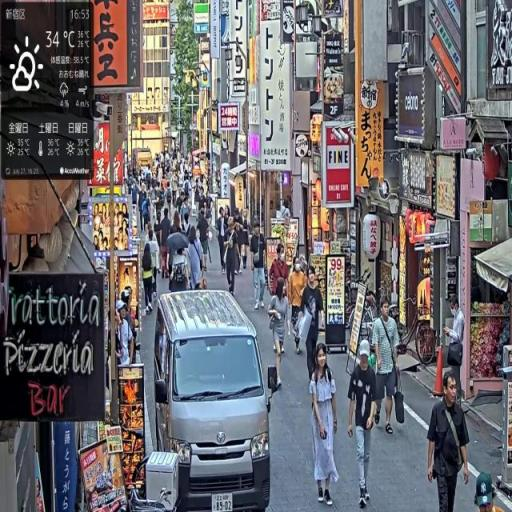person: (426, 372, 471, 512), (348, 342, 380, 511), (310, 343, 339, 507), (373, 297, 403, 439), (298, 266, 325, 388), (269, 277, 291, 389), (288, 255, 308, 358), (250, 219, 269, 314), (223, 219, 242, 301), (199, 207, 213, 272), (217, 206, 229, 275)
